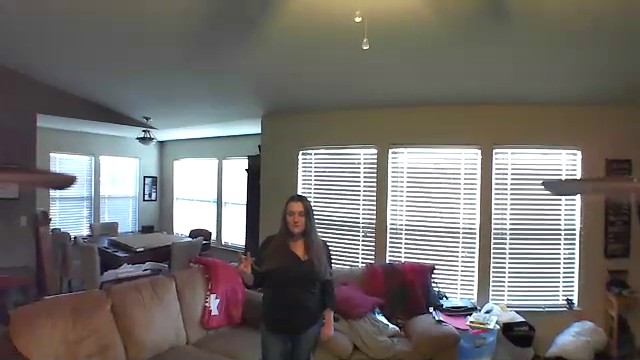peace: (230, 244, 262, 281)
